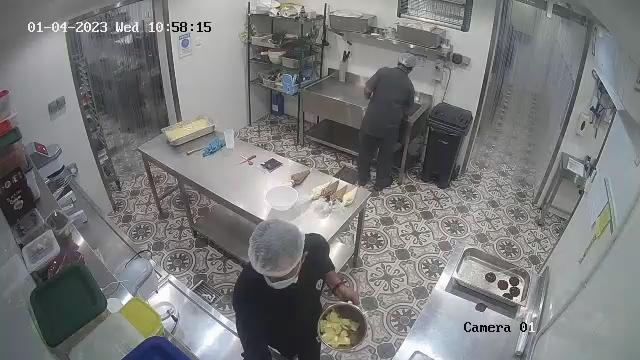no_apron: (248, 256, 320, 360)
